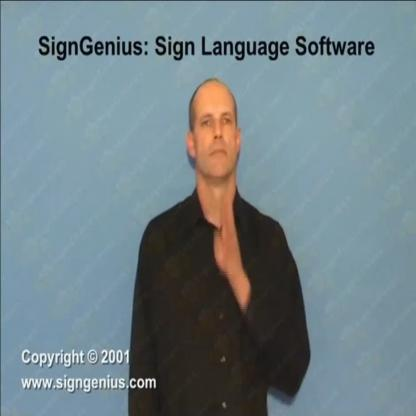Talk: (122, 66, 317, 416)
